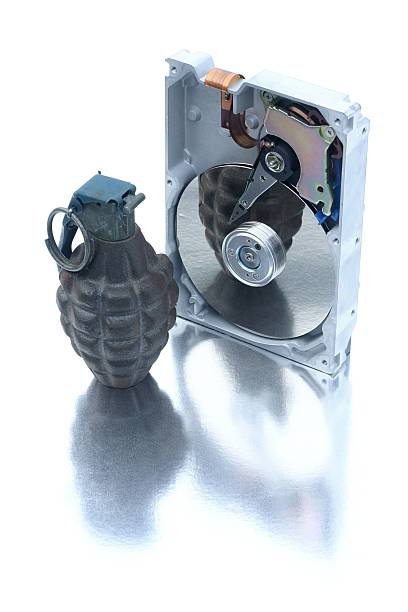e1: (43, 174, 185, 389)
